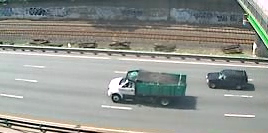car: (104, 67, 189, 110), (203, 67, 252, 90)
